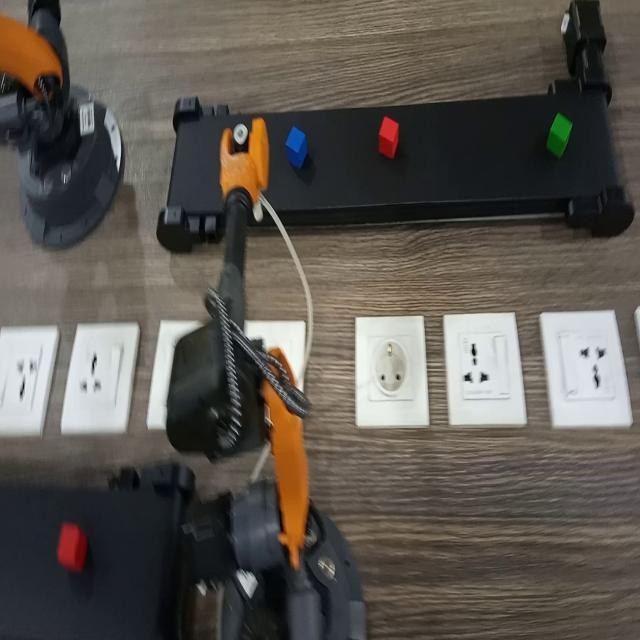cube: (50, 515, 94, 575), (547, 105, 583, 160), (284, 119, 313, 169), (377, 110, 403, 159)
